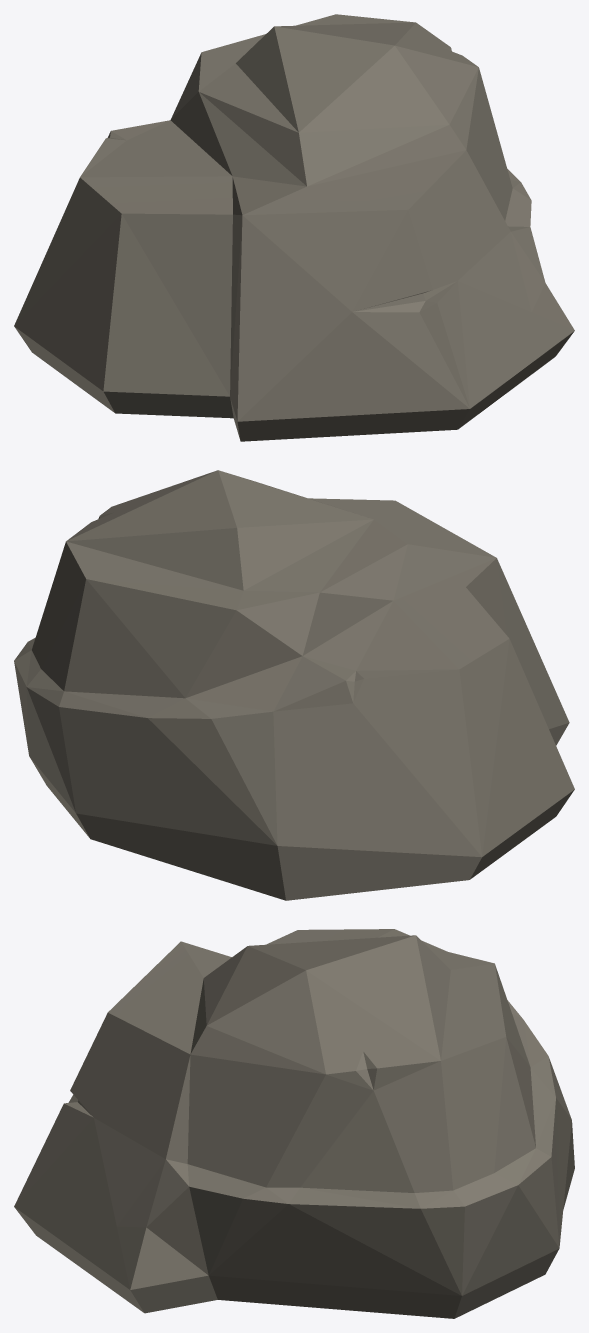
The model's file is rock__rock8_cave_light.glb.
3 views of the same model, one above another, from view 1: azimuth 30°, elevation 25°; view 2: azimuth 150°, elevation 25°; view 3: azimuth 270°, elevation 25° (orthographic). The views are drawn at different scales.
Parts seen in each view (by area): view 1: rock8.cave.light; view 2: rock8.cave.light; view 3: rock8.cave.light.
Boxes of the visible parts, left/top/right/bottom form: rock8.cave.light: left=14, top=14, right=574, bottom=441; rock8.cave.light: left=14, top=470, right=574, bottom=900; rock8.cave.light: left=14, top=929, right=574, bottom=1318.
Bounding box in the file's own units: 2.69 × 1.59 × 2.71.
Materials: 1 (1 with a texture image).
